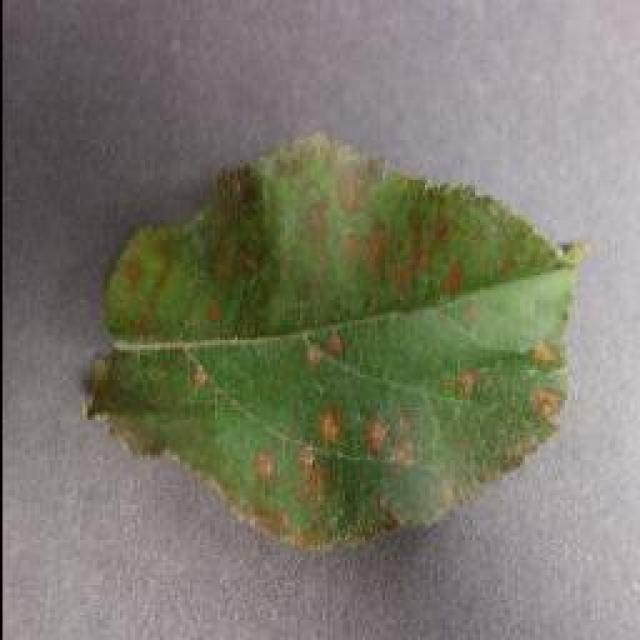apple cedar apple rust: (82, 128, 590, 552)
